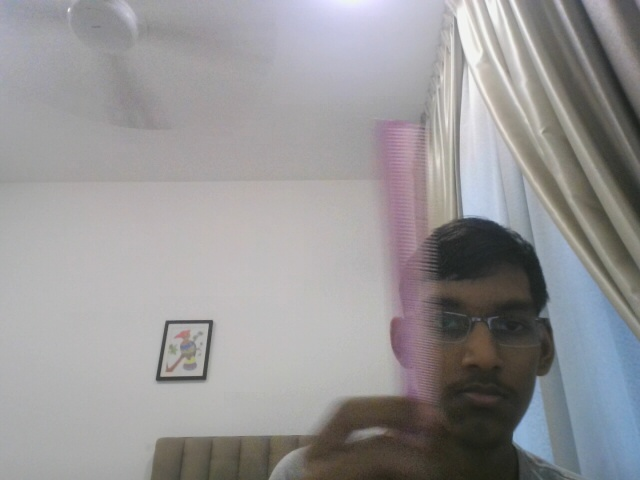comb: (376, 119, 438, 400)
